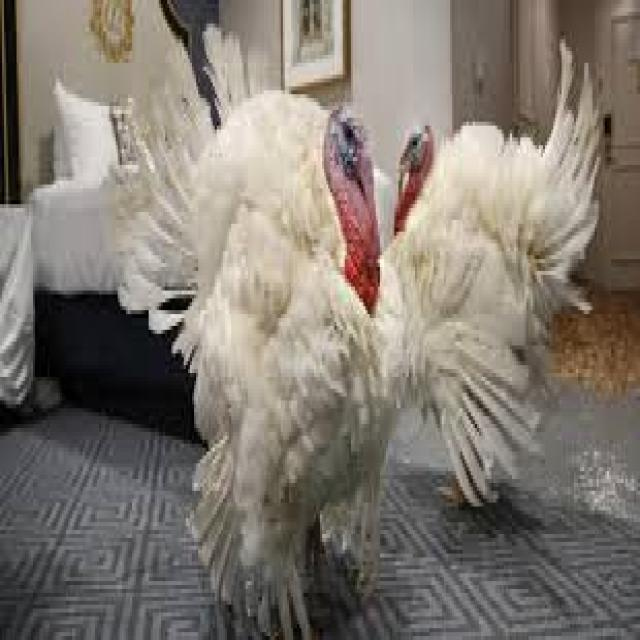Turkey: (139, 109, 398, 616), (389, 42, 630, 490)
